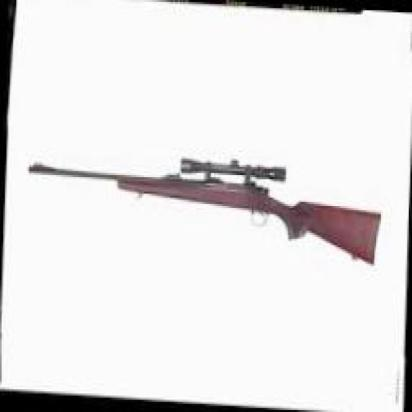Gun: (21, 138, 390, 276)
